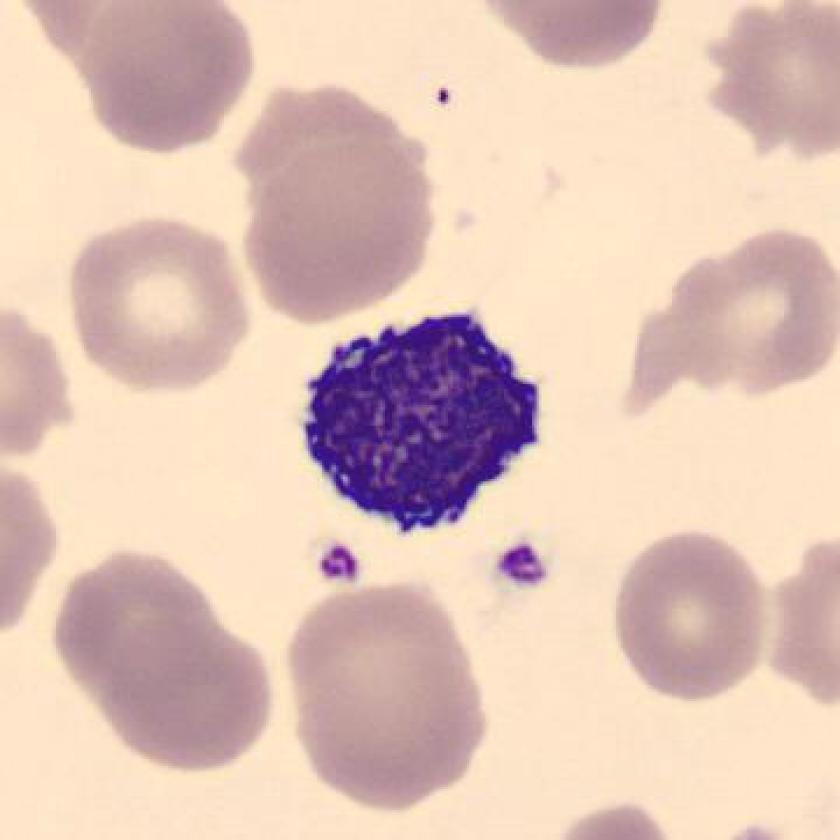lymphocyte: (290, 300, 559, 547)
platelets: (496, 532, 556, 599), (314, 541, 363, 586)
